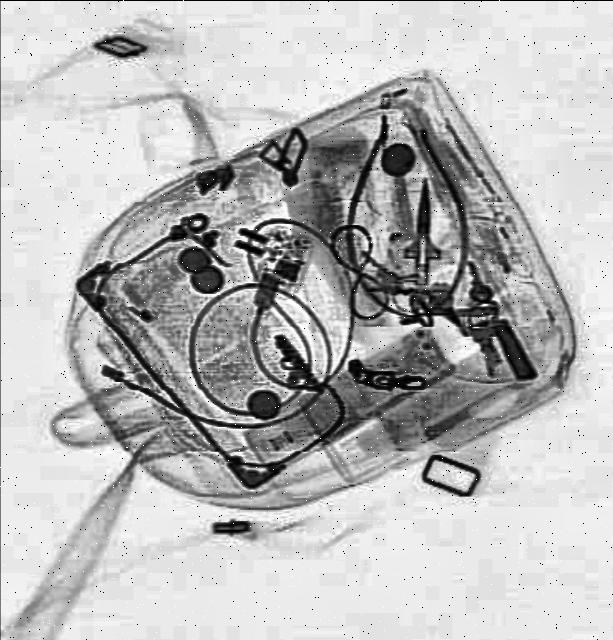Knife: (401, 175, 442, 281)
